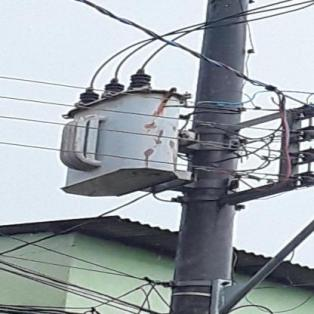Poste: (138, 0, 278, 314)
